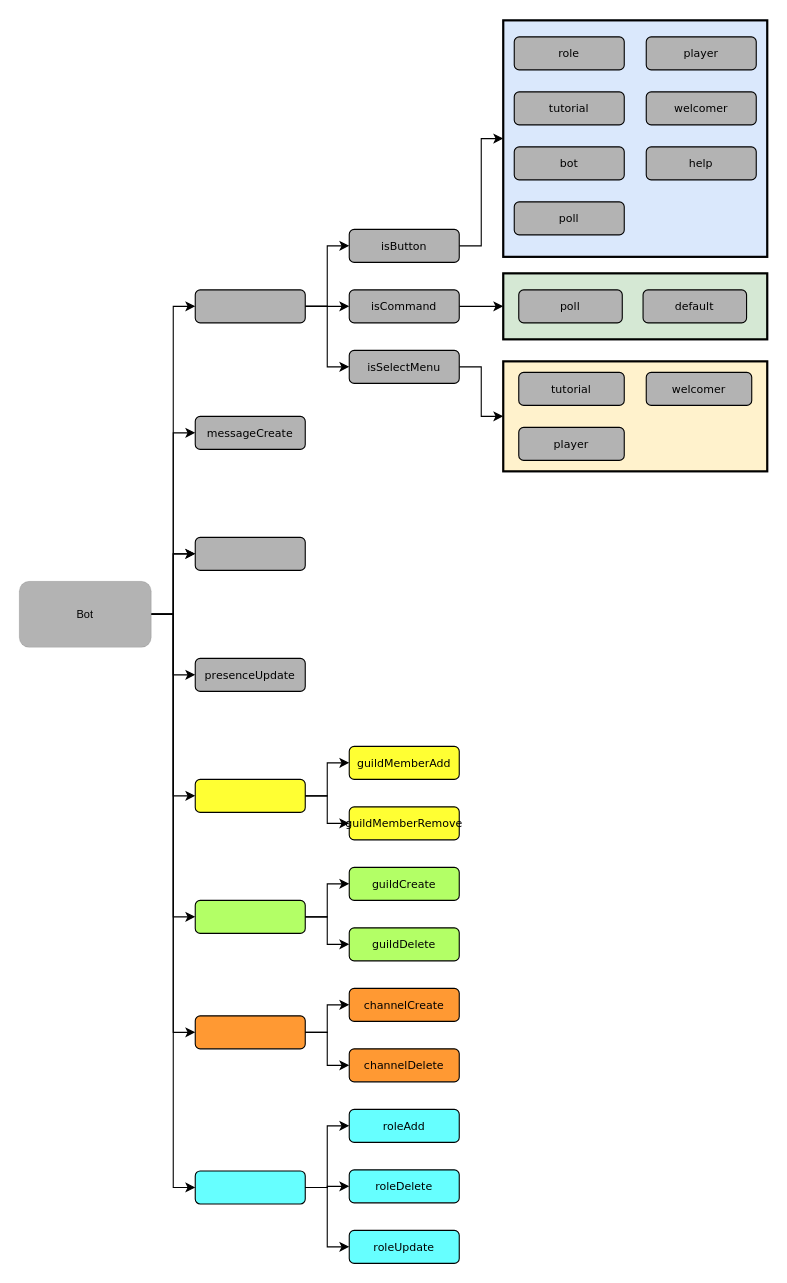
This 787x1283 diagram has some shape labels left out. Each missing label, with the centre of its shape:
"channelEvents" goes at point (249, 1032).
"guildEvents" goes at point (249, 916).
"guildMemberEvents" goes at point (249, 795).
"iterationCreate" goes at point (249, 306).
"ready" goes at point (249, 553).
"roleEvents" goes at point (249, 1187).
